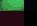slime: (0, 0, 24, 11)
